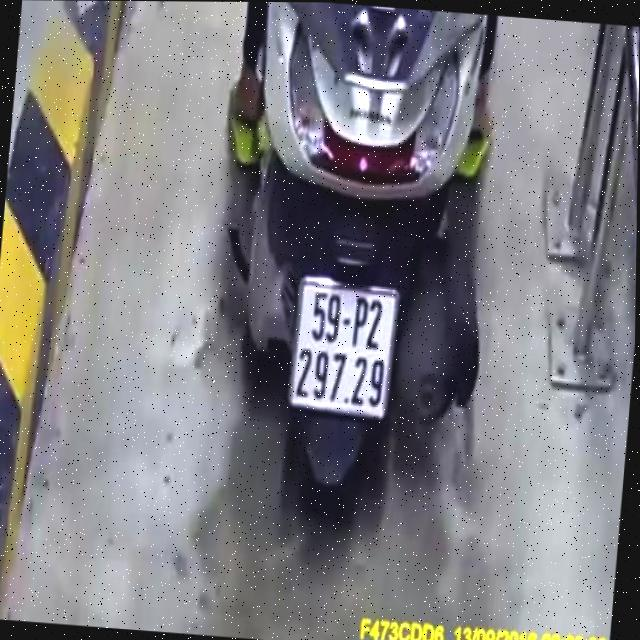motorcycle: (200, 2, 518, 535)
plate: (279, 270, 404, 427)
